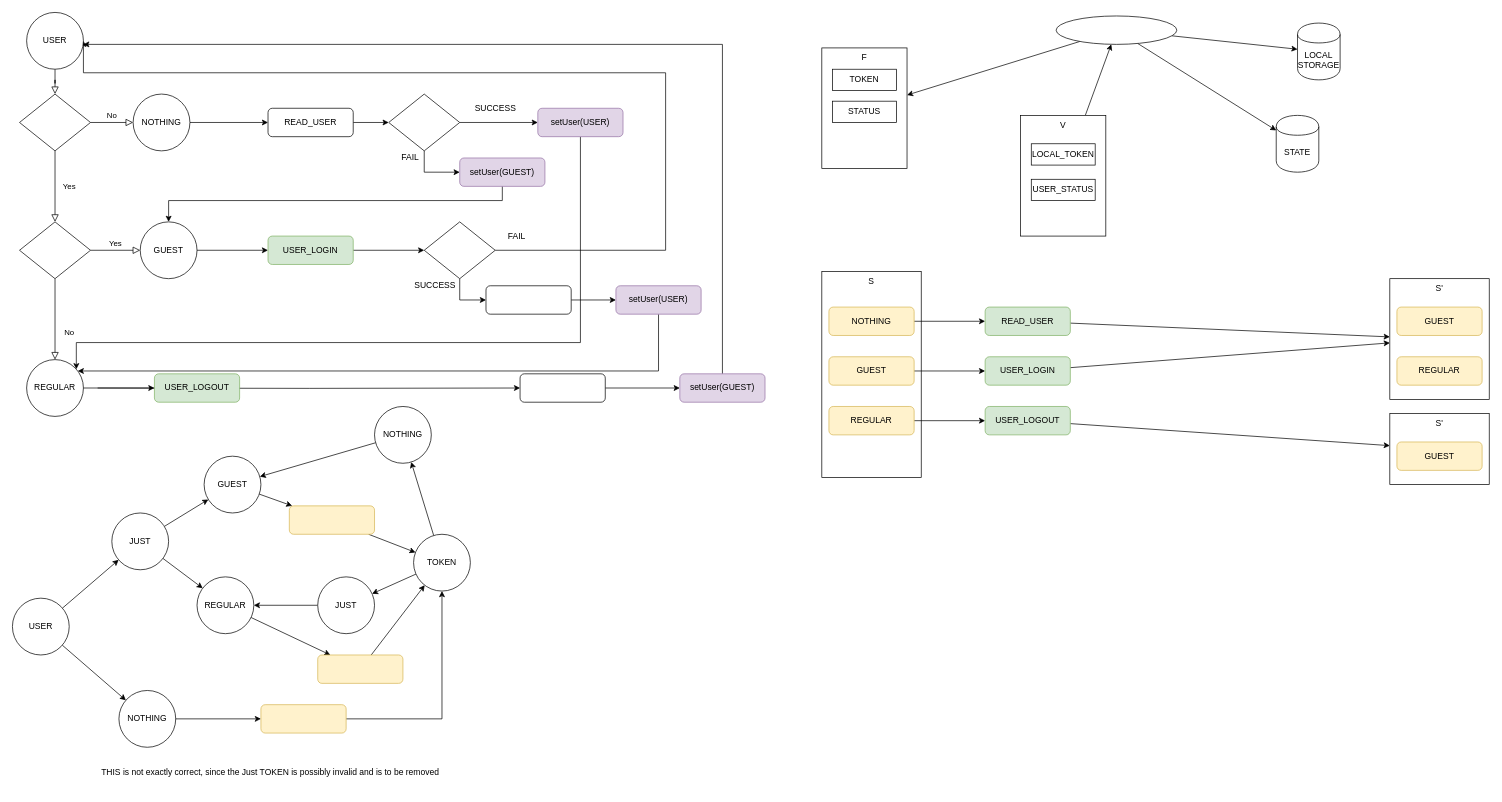
This 1502x802 diagram has some shape labels left out. The centre of each missing label's shape, as x and y in pixels:
"currentUserRole GUEST" goes at pixel 55 250.
"getValues" goes at pixel 1116 29.
"INIT" goes at pixel 303 718.
"LOGIN" goes at pixel 332 519.
"LOGOUT" goes at pixel 360 668.
"READ_USER_API" goes at pixel 424 122.
"removeToken" goes at pixel 562 387.
"setToken" goes at pixel 528 299.
"user.dataStatus READY" goes at pixel 55 122.
"USER_LOGIN_API" goes at pixel 459 250.
